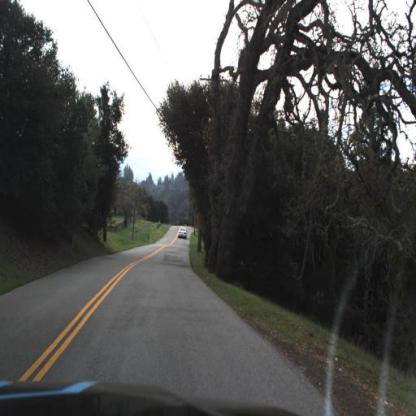car: (175, 225, 189, 243)
